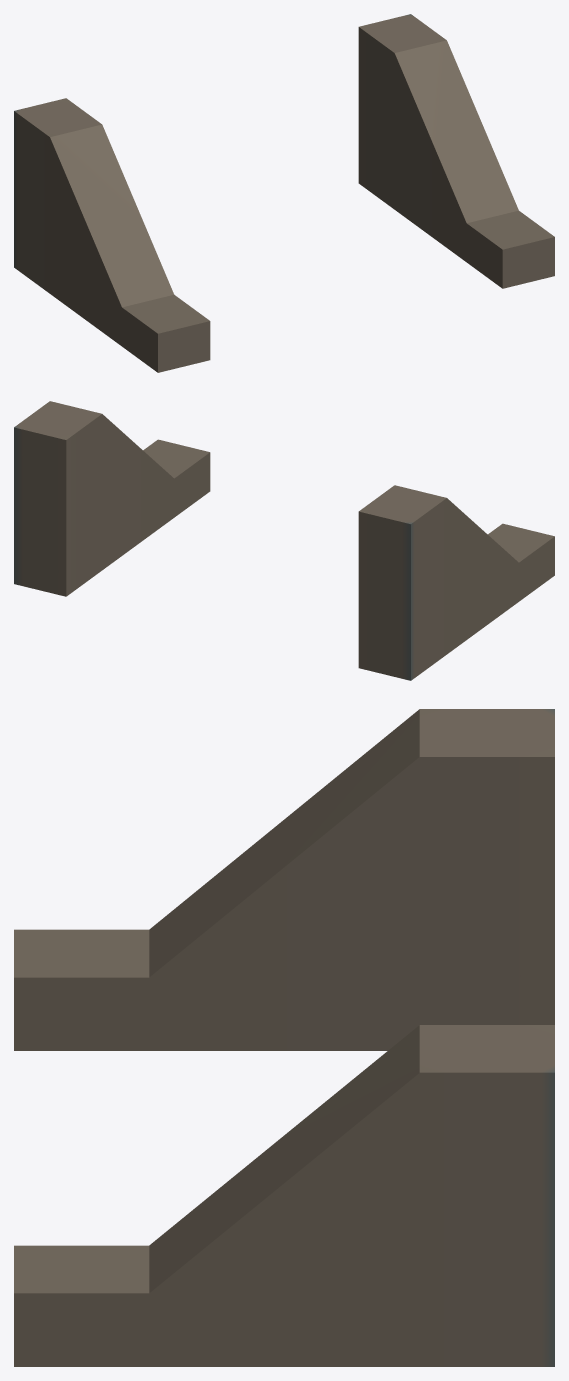
File: Shrine_Stairs_Side.gltf
3 renders of one model, top to bottom at view 1: azimuth 30°, elevation 25°; view 2: azimuth 150°, elevation 25°; view 3: azimuth 270°, elevation 25°, orthographic. The views are drawn at different scales.
Parts seen in each view (by area): view 1: Shrine_Stairs_Side; view 2: Shrine_Stairs_Side; view 3: Shrine_Stairs_Side.
Part boxes in pixels (x1,y1,x2,y2): Shrine_Stairs_Side: (14,14,554,372); Shrine_Stairs_Side: (14,401,554,680); Shrine_Stairs_Side: (14,709,554,1366).
Bounding box in the file's own units: 1.59 × 0.6 × 1.
1 material, 1 textured.
